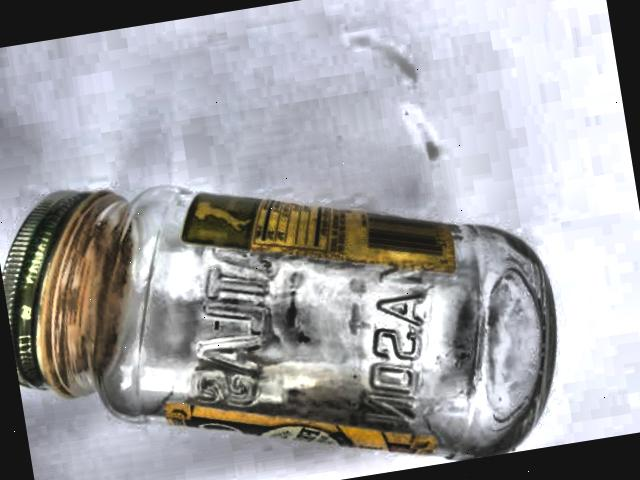Almennt: (0, 97, 586, 480)
